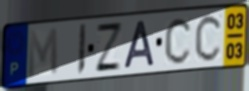A: (122, 19, 157, 71)
C: (193, 12, 225, 64), (163, 15, 194, 66)
I: (76, 22, 88, 77)
M: (27, 26, 60, 81)
Z: (93, 21, 125, 73)
